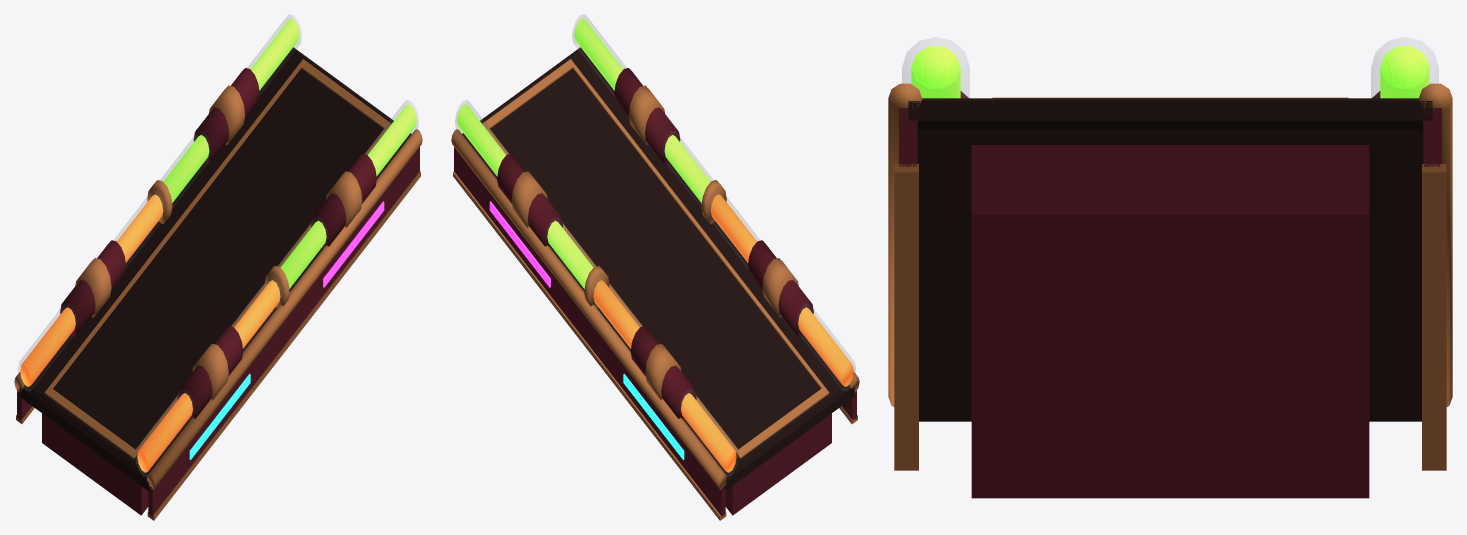
Rendered from Deck_Overpass_High_Ramp.glb.
The picture shows the model from 3 angles, left to right: view 1: azimuth 30°, elevation 25°; view 2: azimuth 150°, elevation 25°; view 3: azimuth 270°, elevation 25°; orthographic projection. The views are drawn at different scales.
Parts seen in each view (by area): view 1: CP_Deck_Overpass_High_Ramp; view 2: CP_Deck_Overpass_High_Ramp; view 3: CP_Deck_Overpass_High_Ramp.
Part boxes in pixels (x1,y1,x2,y2): CP_Deck_Overpass_High_Ramp: [14, 14, 422, 520]; CP_Deck_Overpass_High_Ramp: [451, 14, 859, 520]; CP_Deck_Overpass_High_Ramp: [888, 37, 1452, 498].
Size of the model in its own units: 4 by 5.12 by 3.66.
